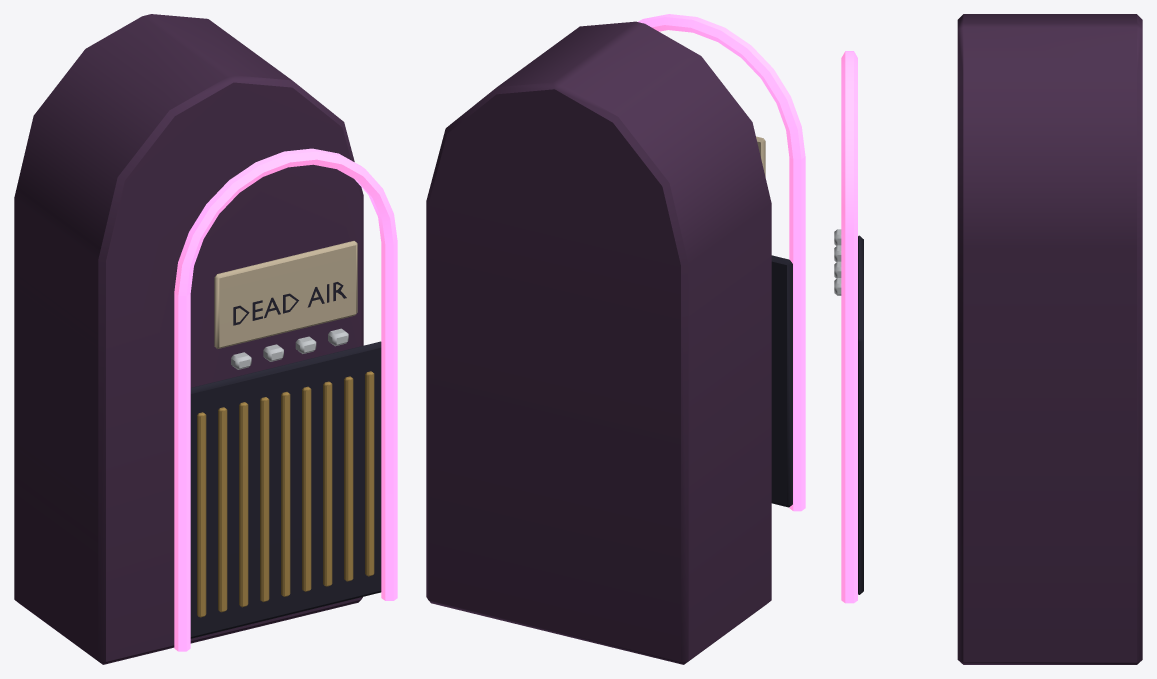
File: jukebox-authored.glb
3 views of the same model, side by side, from view 1: azimuth 30°, elevation 25°; view 2: azimuth 150°, elevation 25°; view 3: azimuth 270°, elevation 25° (orthographic). The views are drawn at different scales.
Visible parts, largest first — view 1: jukebox_ghoul, glow; view 2: jukebox_ghoul, glow; view 3: jukebox_ghoul, glow.
Boxes of the visible parts, bbox=[...] form: jukebox_ghoul: bbox=[14, 14, 381, 664]; glow: bbox=[174, 148, 397, 651]; jukebox_ghoul: bbox=[426, 21, 792, 664]; glow: bbox=[638, 14, 805, 511]; jukebox_ghoul: bbox=[834, 14, 1142, 664]; glow: bbox=[841, 51, 857, 603].
Size of the model in its own units: 0.82 by 1.65 by 0.8.
